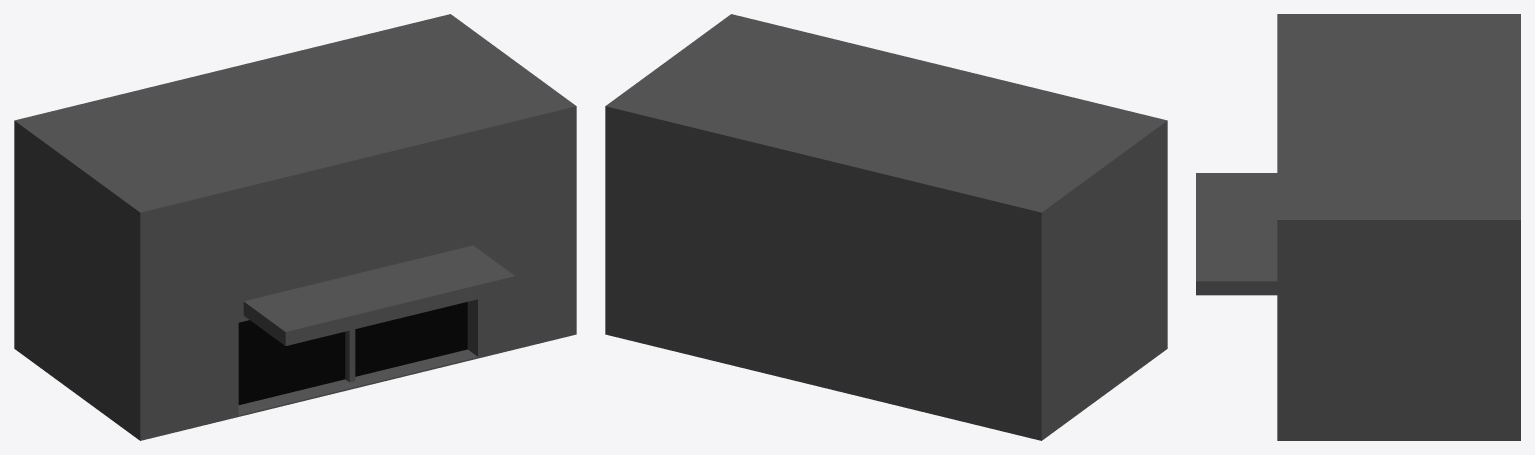
Rendered from GrandBas.fbx.
3 views of the same model, side by side, from view 1: azimuth 30°, elevation 25°; view 2: azimuth 150°, elevation 25°; view 3: azimuth 270°, elevation 25° (orthographic). The views are drawn at different scales.
Parts seen in each view (by area): view 1: Cube.117; view 2: Cube.117; view 3: Cube.117.
Boxes of the visible parts, bbox=[...] form: Cube.117: bbox=[14, 14, 576, 440]; Cube.117: bbox=[605, 14, 1167, 440]; Cube.117: bbox=[1196, 14, 1520, 440].
Bounding box in the file's own units: 4000 × 2000 × 2666.
